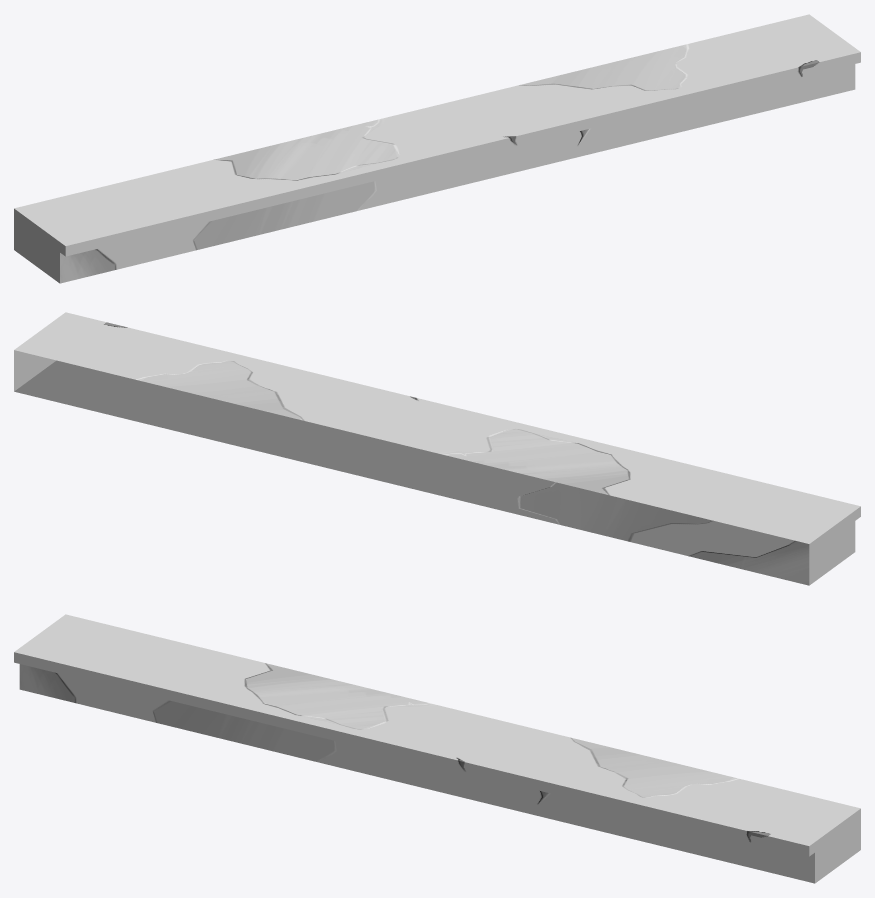
Rendered from LedgeEdge_Mod.FBX.
3 renders of one model, top to bottom at view 1: azimuth 30°, elevation 25°; view 2: azimuth 150°, elevation 25°; view 3: azimuth 330°, elevation 25°, orthographic.
Parts seen in each view (by area): view 1: LedgeEdge; view 2: LedgeEdge; view 3: LedgeEdge.
Part boxes in pixels (box(x1,y1,x2,y2)): LedgeEdge: box(14, 14, 860, 283); LedgeEdge: box(14, 312, 860, 585); LedgeEdge: box(14, 614, 860, 883).
Size of the model in its own units: 78.74 by 3.94 by 8.86.
Materials: 1 (1 with a texture image).
